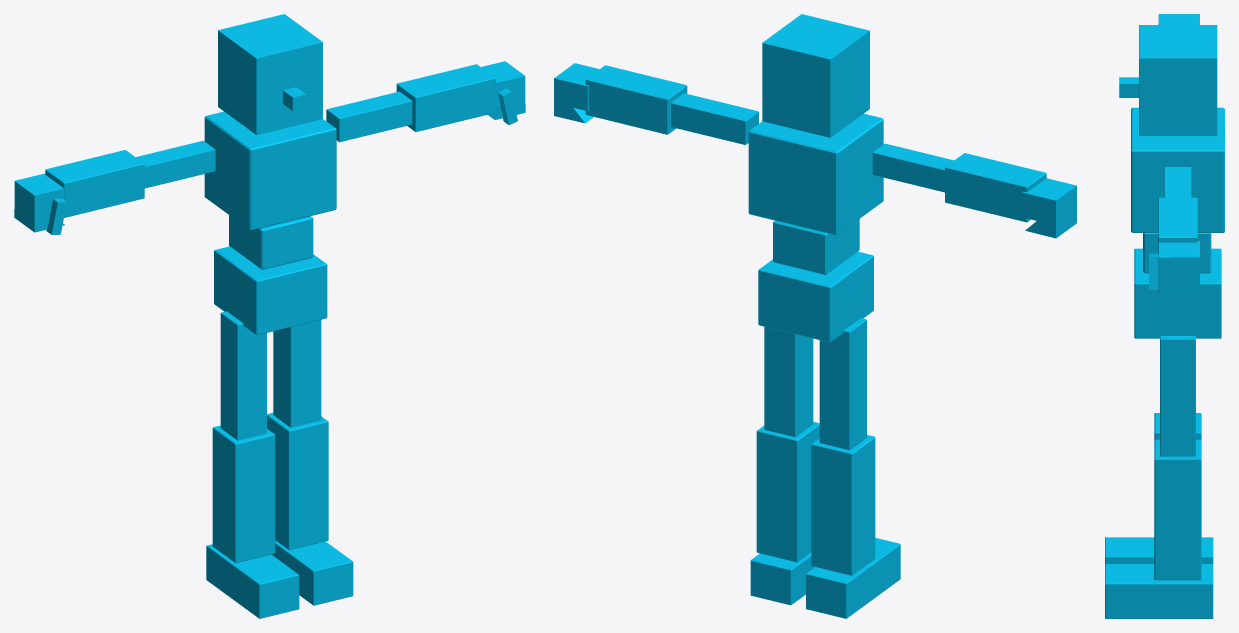
File: stand.fbx
3 views of the same model, side by side, from view 1: azimuth 30°, elevation 25°; view 2: azimuth 150°, elevation 25°; view 3: azimuth 270°, elevation 25° (orthographic). The views are drawn at different scales.
Visible parts, largest first — view 1: Chest_obj, Head_obj, Shin_R_obj, Hip_obj, Shin_L_obj, Thigh_R_obj, Thigh_L_obj, Lowerarm_L_obj, Foot_R_obj, Lowerarm_R_obj, Foot_L_obj, Hara (+4 smaller); view 2: Chest_obj, Head_obj, Shin_R_obj, Hip_obj, Shin_L_obj, Thigh_R_obj, Thigh_L_obj, Lowerarm_L_obj, Lowerarm_R_obj, Foot_R_obj, Hara, Upperarm_L_obj (+4 smaller); view 3: Head_obj, Chest_obj, Shin_L_obj, Foot_L_obj, Hip_obj, Thigh_L_obj, Hand_L_obj, Lowerarm_L_obj, Foot_R_obj, Hara, Upperarm_L_obj, Hand_L_obj1 (+1 smaller).
Boxes of the visible parts, left/top/right/bottom form: Chest_obj: left=204, top=111, right=336, bottom=230; Head_obj: left=218, top=14, right=322, bottom=134; Shin_R_obj: left=212, top=425, right=275, bottom=563; Hip_obj: left=214, top=246, right=327, bottom=335; Shin_L_obj: left=267, top=412, right=328, bottom=550; Thigh_R_obj: left=220, top=311, right=266, bottom=440; Thigh_L_obj: left=273, top=320, right=321, bottom=427; Lowerarm_L_obj: left=396, top=64, right=495, bottom=131; Foot_R_obj: left=206, top=544, right=299, bottom=618; Lowerarm_R_obj: left=45, top=150, right=144, bottom=217; Foot_L_obj: left=272, top=540, right=353, bottom=605; Hara: left=229, top=215, right=313, bottom=269; Chest_obj: left=748, top=113, right=883, bottom=235; Head_obj: left=762, top=14, right=869, bottom=137; Shin_R_obj: left=811, top=435, right=875, bottom=575; Hip_obj: left=758, top=251, right=873, bottom=342; Shin_L_obj: left=756, top=422, right=819, bottom=562; Thigh_R_obj: left=819, top=318, right=866, bottom=450; Thigh_L_obj: left=764, top=326, right=813, bottom=437; Lowerarm_L_obj: left=585, top=65, right=687, bottom=134; Lowerarm_R_obj: left=945, top=153, right=1046, bottom=222; Foot_R_obj: left=806, top=538, right=900, bottom=618; Hara: left=773, top=219, right=859, bottom=274; Upperarm_L_obj: left=671, top=93, right=758, bottom=144; Head_obj: left=1119, top=25, right=1217, bottom=135; Chest_obj: left=1131, top=107, right=1224, bottom=232; Shin_L_obj: left=1154, top=439, right=1201, bottom=580; Foot_L_obj: left=1105, top=564, right=1213, bottom=618; Hip_obj: left=1134, top=248, right=1221, bottom=338; Thigh_L_obj: left=1160, top=336, right=1195, bottom=456; Hand_L_obj: left=1149, top=241, right=1199, bottom=294; Lowerarm_L_obj: left=1158, top=197, right=1197, bottom=253; Foot_R_obj: left=1105, top=537, right=1213, bottom=564; Hara: left=1143, top=233, right=1211, bottom=273; Upperarm_L_obj: left=1164, top=167, right=1191, bottom=197; Hand_L_obj1: left=1158, top=14, right=1199, bottom=24.
Bounding box in the file's own units: 0.147 × 0.156 × 0.0306.
